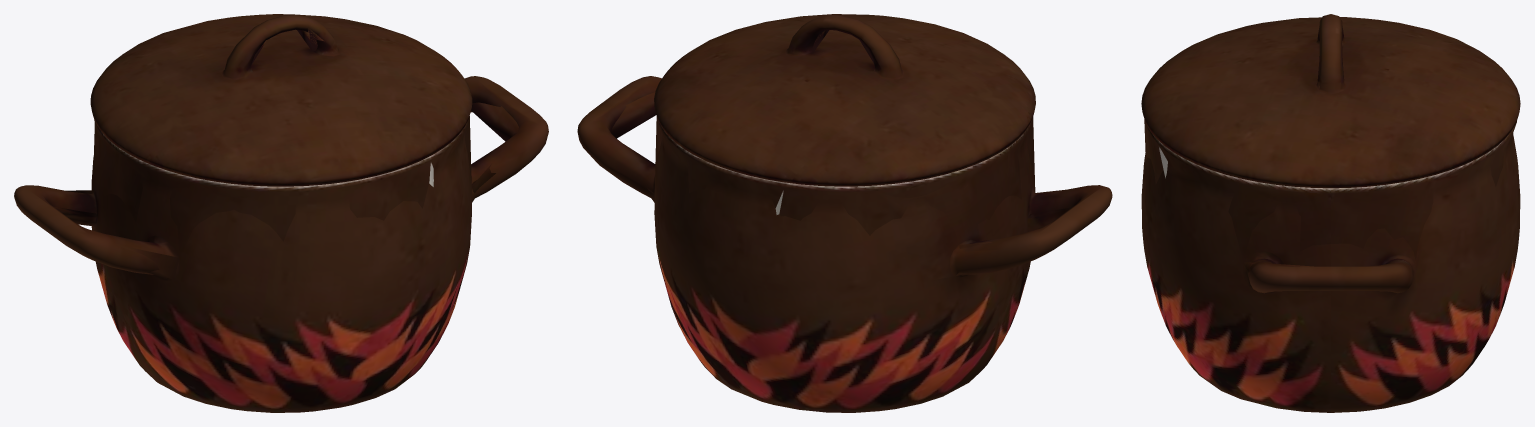
Rendered from pot_enamel_01.glb.
3 views of the same model, side by side, from view 1: azimuth 30°, elevation 25°; view 2: azimuth 150°, elevation 25°; view 3: azimuth 270°, elevation 25° (orthographic).
Parts seen in each view (by area): view 1: pot_enamel_01_lid, pot_enamel_01_lid_lo; view 2: pot_enamel_01_lid, pot_enamel_01_lid_lo; view 3: pot_enamel_01_lid, pot_enamel_01_lid_lo.
Part boxes in pixels (bbox=[...]): pot_enamel_01_lid: bbox=[14, 14, 548, 412]; pot_enamel_01_lid_lo: bbox=[53, 28, 518, 279]; pot_enamel_01_lid: bbox=[577, 14, 1112, 412]; pot_enamel_01_lid_lo: bbox=[611, 30, 1071, 276]; pot_enamel_01_lid: bbox=[1141, 14, 1520, 412]; pot_enamel_01_lid_lo: bbox=[1144, 43, 1504, 273].
Size of the model in its own units: 0.2627 by 0.178 by 0.1805.
Materials: 1 (1 with a texture image).
